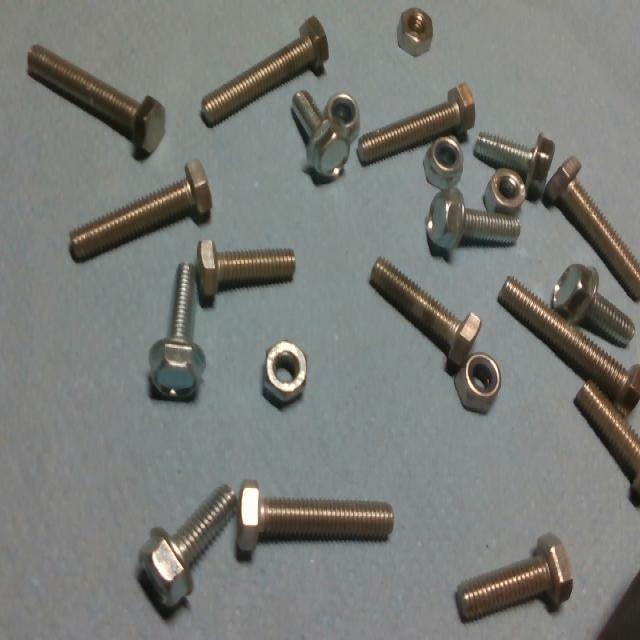Bolt: (484, 270, 640, 412), (54, 152, 227, 267), (22, 39, 171, 168), (535, 143, 639, 314), (194, 10, 335, 129), (360, 243, 483, 379), (129, 472, 235, 617), (225, 483, 397, 565), (444, 527, 579, 631), (358, 80, 484, 180), (556, 383, 639, 519), (549, 238, 639, 352), (140, 253, 207, 404), (412, 178, 529, 262), (194, 224, 307, 310), (470, 108, 553, 204), (286, 86, 352, 184)
Nut: (252, 335, 316, 409), (458, 349, 504, 418), (416, 123, 467, 184), (392, 0, 439, 66), (484, 158, 531, 220), (323, 79, 363, 143)
